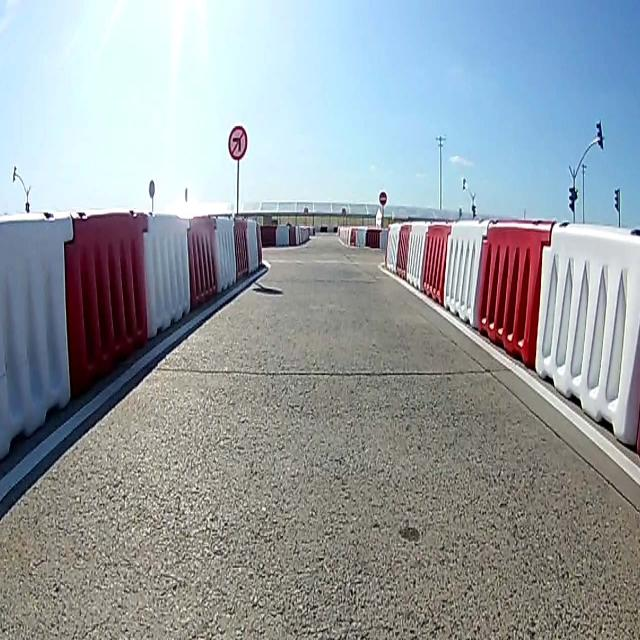girisyok: (379, 190, 389, 207)
soladonulmez: (227, 123, 248, 161)
